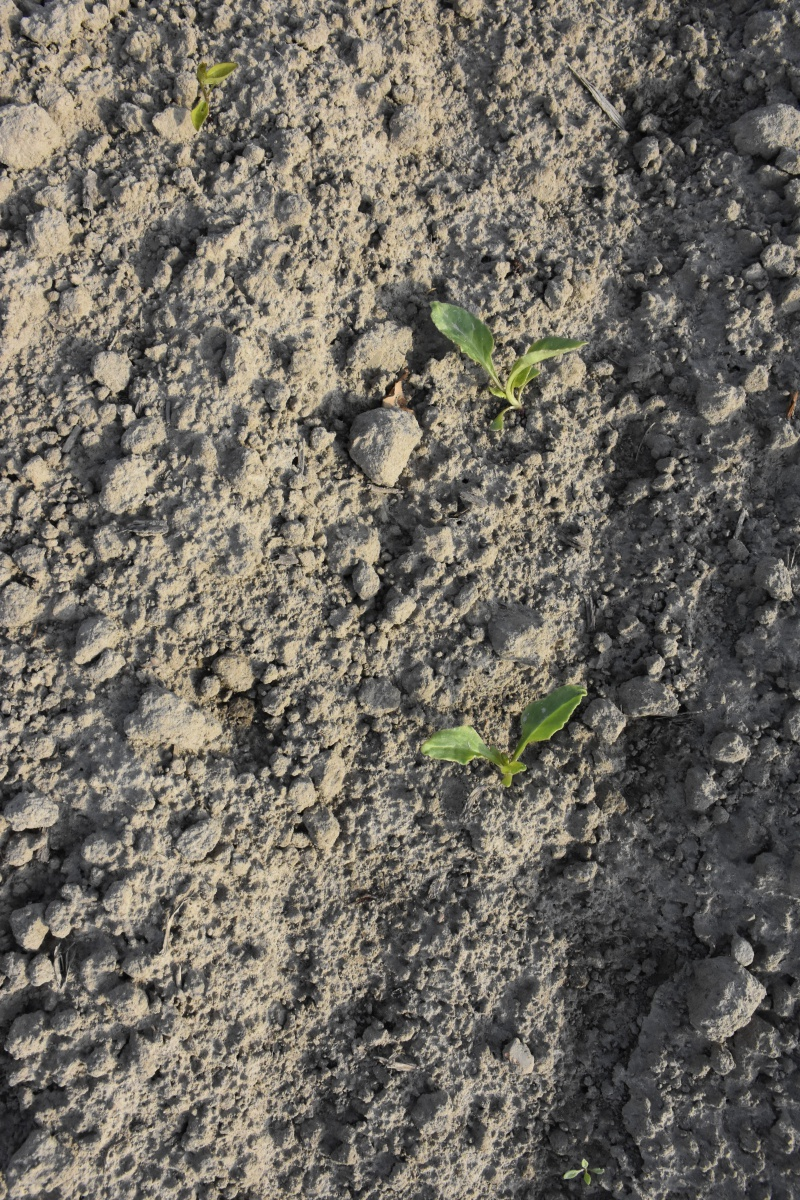field bindweed: (183, 59, 240, 134)
sugar beet: (426, 291, 584, 442), (411, 676, 589, 792)
